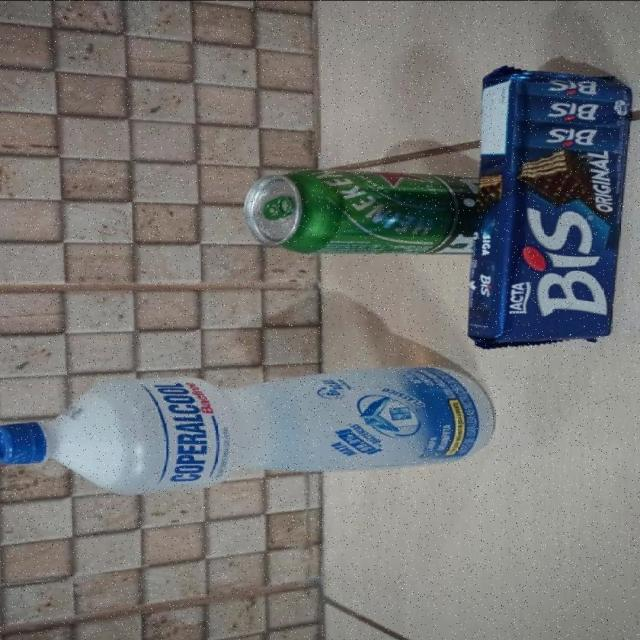AlcoholBottle: (0, 366, 495, 493)
BeerCan: (242, 165, 473, 253)
